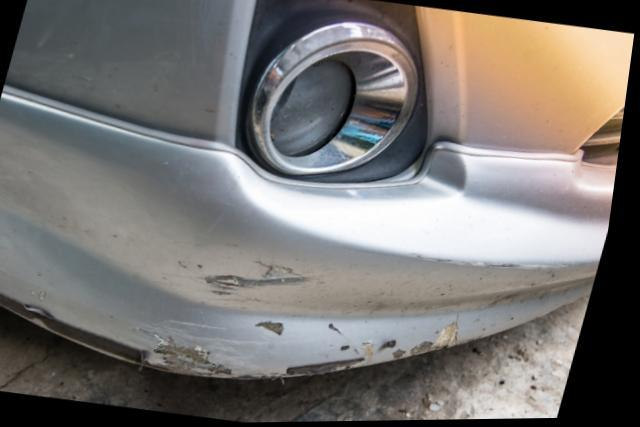scratch: (126, 240, 574, 381)
